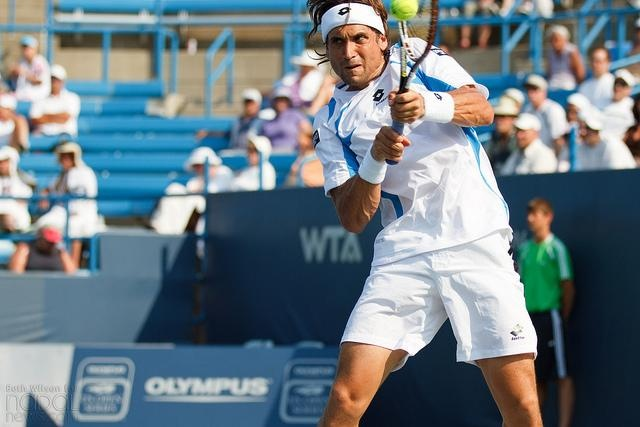person: (301, 6, 554, 427)
